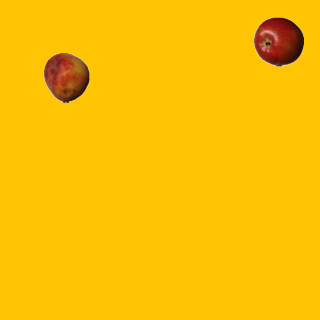Apple Braeburn: (253, 16, 303, 66)
Peach: (41, 52, 91, 102)
